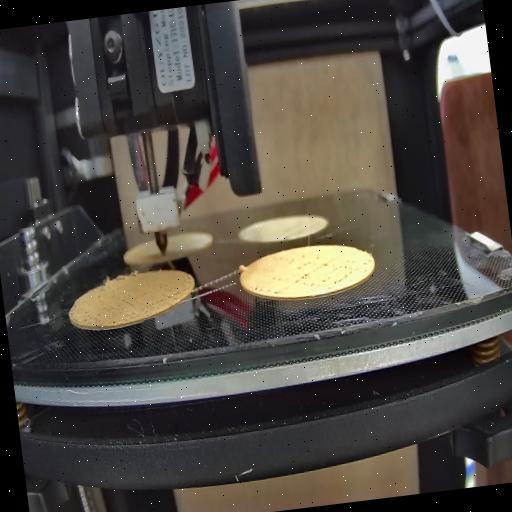under_extrusion: (293, 250, 369, 294), (82, 290, 137, 325), (144, 290, 184, 310), (252, 280, 284, 302)
